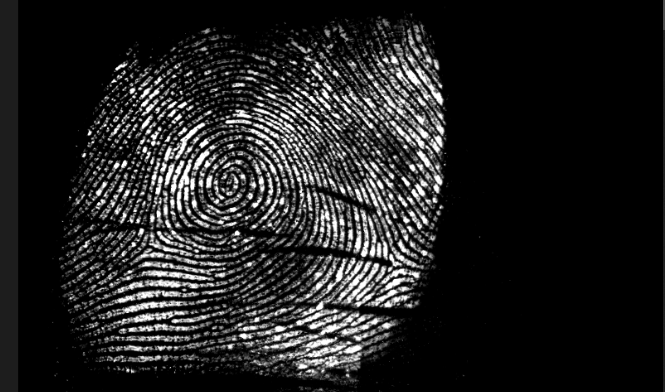nucelo: (213, 153, 249, 209)
verticilo: (131, 227, 167, 258), (375, 246, 410, 276)
